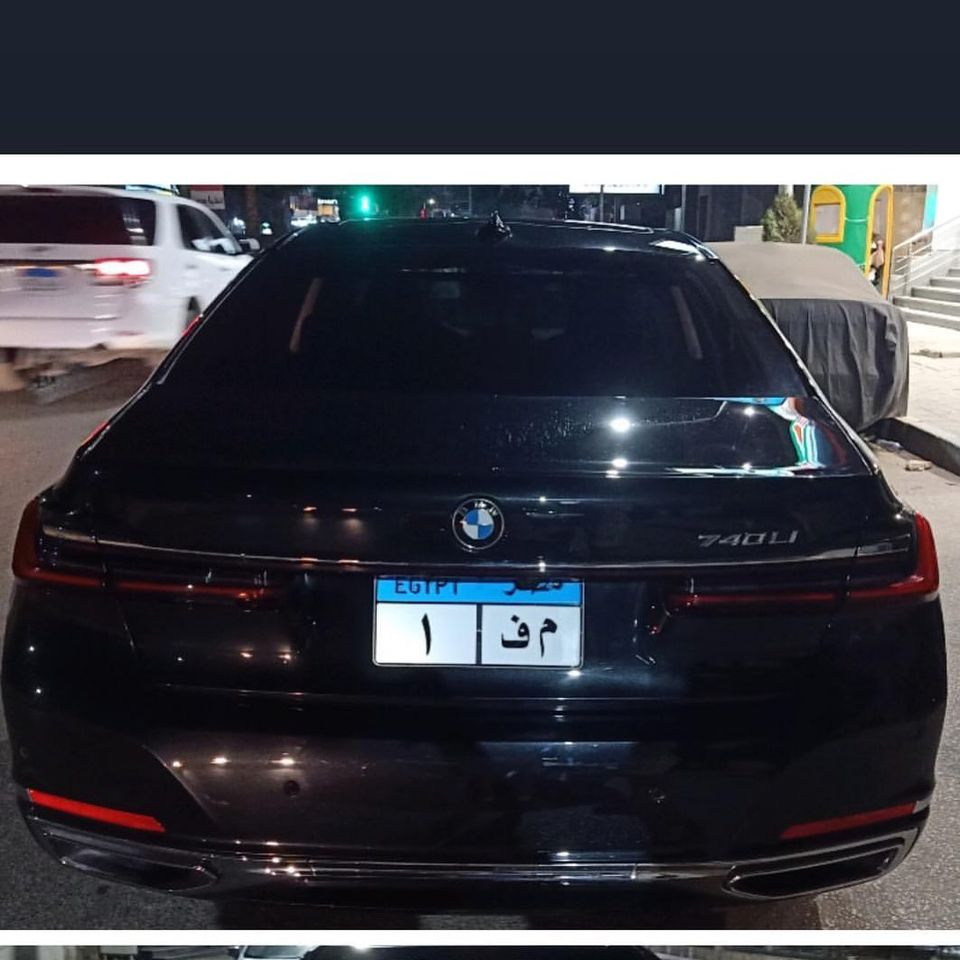carpl: (380, 599, 590, 661)
